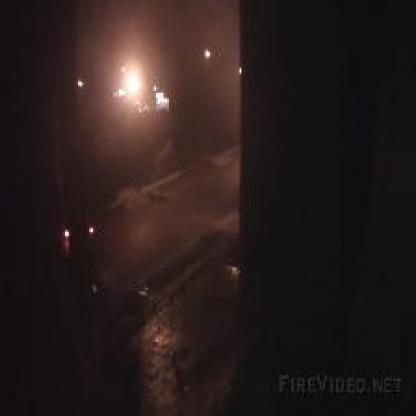other: (103, 57, 153, 106), (145, 78, 182, 118), (58, 221, 102, 238), (201, 47, 212, 61)
